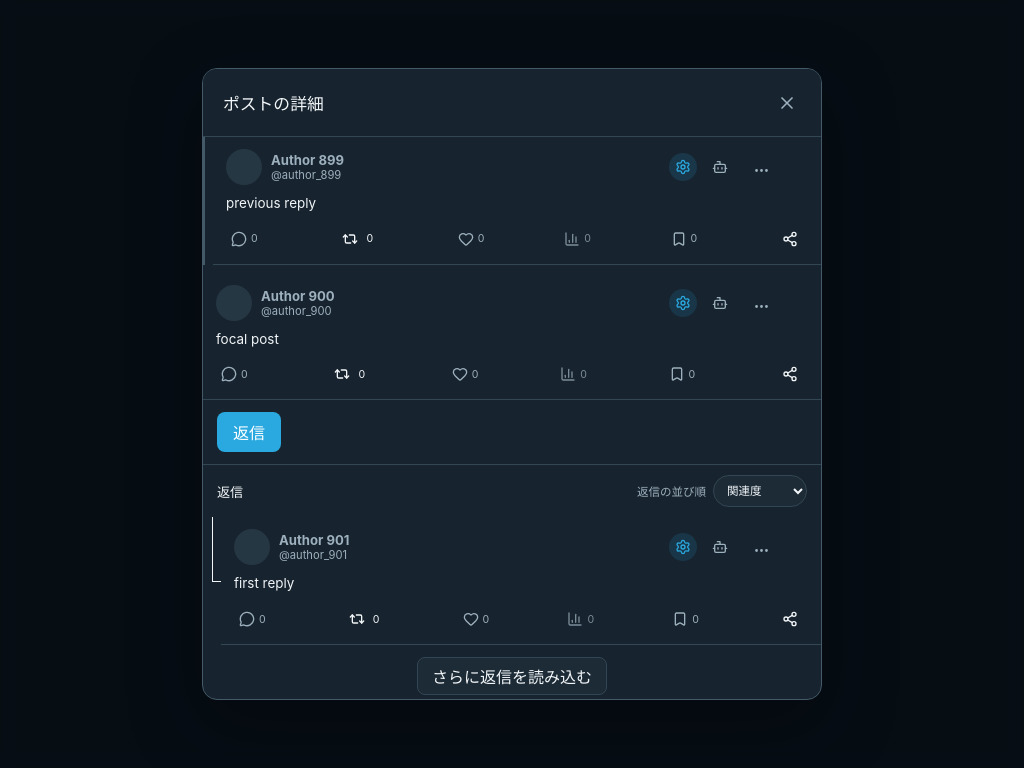
Test: shows reply ancestors and loads older replies from a timeline detail
Check: the text "previous reply" is shown, box top-left (226, 195), bottom-right (316, 211)
Check: the text "first reply" is shown, box top-left (234, 575), bottom-right (294, 591)
Step 1. Click the button "さらに返信を読み込む" → (512, 676), box top-left (417, 657), bottom-right (607, 695)
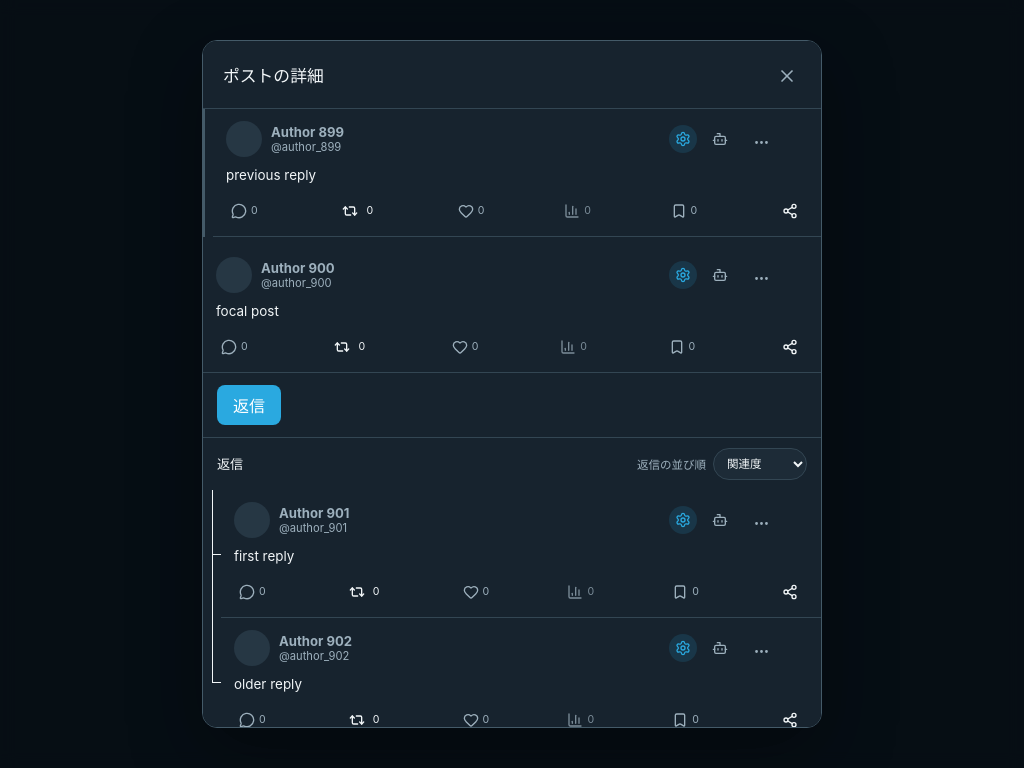
Check: the text "older reply" is shown, box top-left (234, 676), bottom-right (302, 692)
Check: the button "さらに返信を読み込む" is gone
